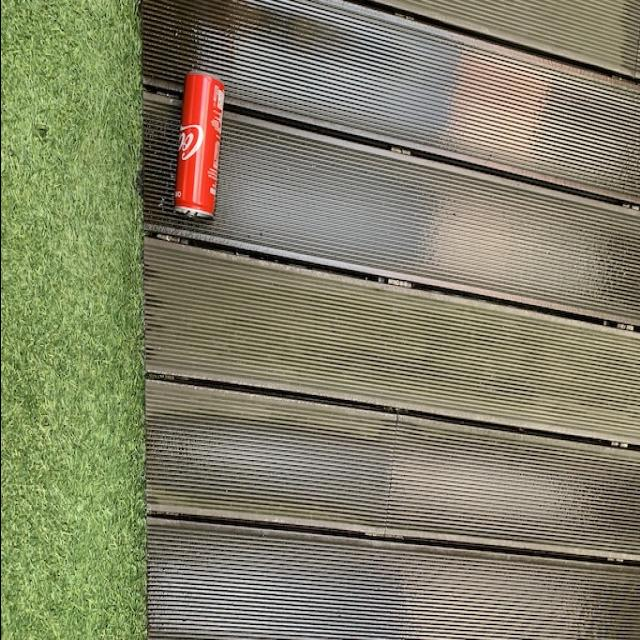Aluminum Can: (168, 61, 228, 235)
